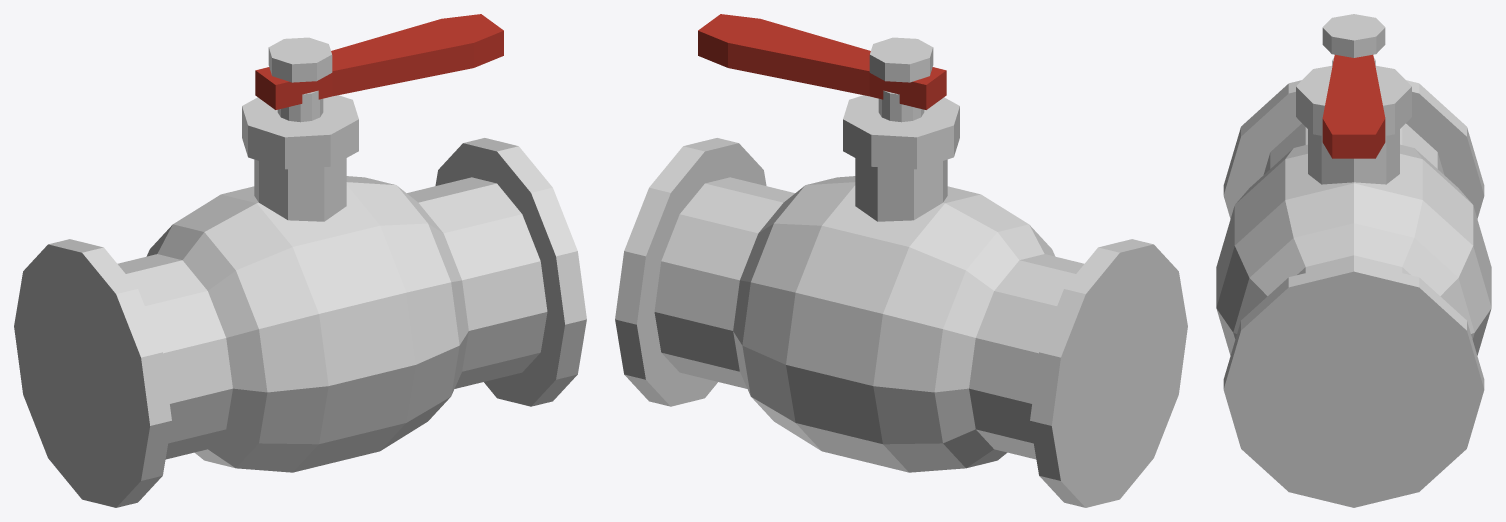
The model's file is valve-ball.glb.
3 views of the same model, side by side, from view 1: azimuth 30°, elevation 25°; view 2: azimuth 150°, elevation 25°; view 3: azimuth 270°, elevation 25° (orthographic). The views are drawn at different scales.
Visible parts, largest first — view 1: body, in.flange, out.stub, out.flange, in.stub, lever, packing.nut, neck, stem.cap, stem; view 2: body, in.flange, out.stub, out.flange, in.stub, lever, packing.nut, neck, stem.cap, stem; view 3: out.flange, body, in.flange, lever, packing.nut, neck, stem.cap, in.stub, out.stub.
Part boxes in pixels (x1=…): body: x1=146, y1=176, x2=468, y2=472; in.flange: x1=14, y1=239, x2=171, y2=507; out.stub: x1=407, y1=177, x2=547, y2=388; out.flange: x1=435, y1=138, x2=586, y2=406; in.stub: x1=117, y1=254, x2=232, y2=459; lever: x1=255, y1=14, x2=503, y2=109; packing.nut: x1=242, y1=95, x2=358, y2=169; neck: x1=254, y1=158, x2=346, y2=221; stem.cap: x1=268, y1=37, x2=332, y2=82; stem: x1=277, y1=90, x2=323, y2=122; body: x1=733, y1=176, x2=1055, y2=472; in.flange: x1=1030, y1=239, x2=1187, y2=507; out.stub: x1=654, y1=177, x2=794, y2=388; out.flange: x1=615, y1=138, x2=766, y2=406; in.stub: x1=969, y1=254, x2=1084, y2=459; lever: x1=698, y1=14, x2=946, y2=109; packing.nut: x1=843, y1=95, x2=959, y2=169; neck: x1=855, y1=158, x2=947, y2=221; stem.cap: x1=869, y1=37, x2=933, y2=82; stem: x1=878, y1=90, x2=924, y2=122; out.flange: x1=1223, y1=261, x2=1484, y2=507; body: x1=1216, y1=144, x2=1491, y2=355; in.flange: x1=1223, y1=80, x2=1484, y2=218; lever: x1=1322, y1=54, x2=1385, y2=158; packing.nut: x1=1296, y1=65, x2=1411, y2=135; neck: x1=1308, y1=129, x2=1399, y2=184; stem.cap: x1=1322, y1=14, x2=1385, y2=57; in.stub: x1=1263, y1=123, x2=1444, y2=174; out.stub: x1=1297, y1=255, x2=1410, y2=274.
Size of the model in its own units: 1 by 0.88 by 0.57.
